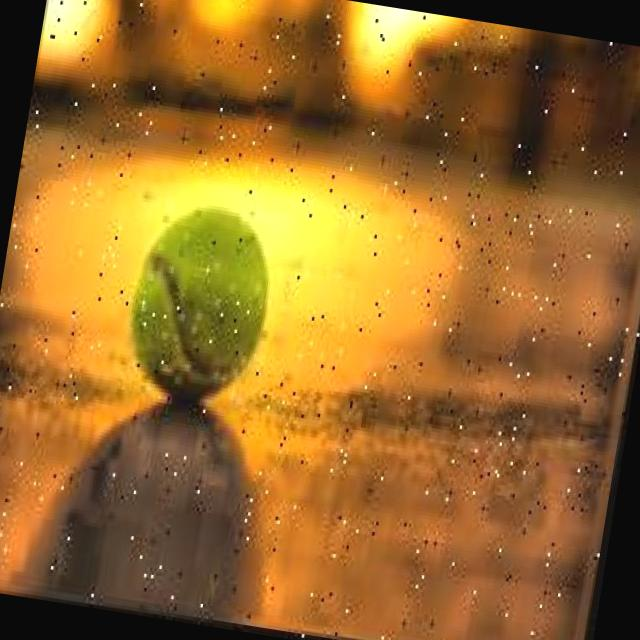Tennis Ball: (109, 185, 298, 428)
